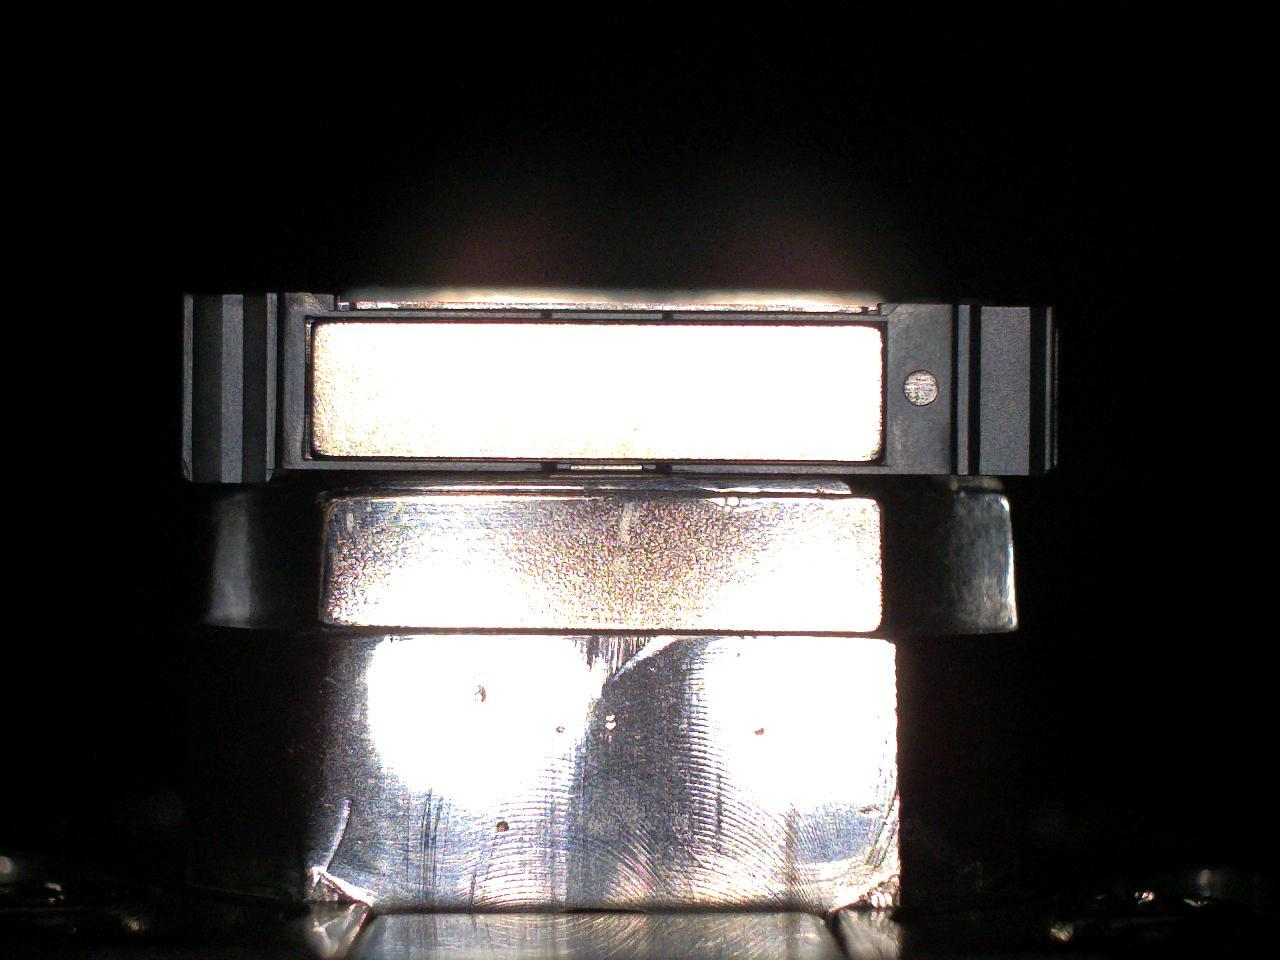frame: (183, 293, 1058, 483)
gap: (311, 316, 542, 325), (673, 459, 891, 467), (308, 456, 544, 462), (672, 321, 889, 327), (551, 320, 664, 327), (557, 458, 655, 465)
magnetic: (314, 324, 882, 461)
